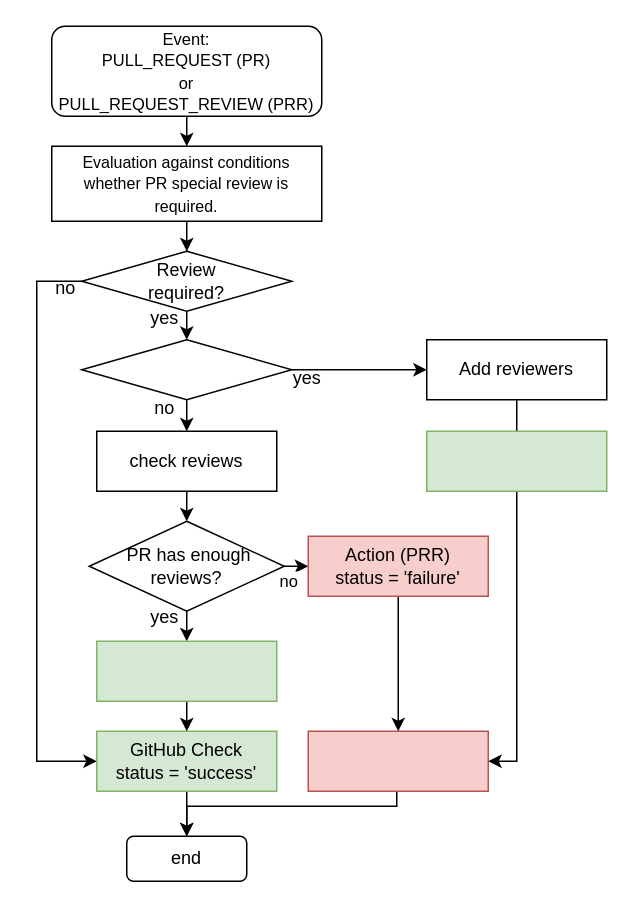
The diagram is 633 pixels wide and 908 high, and some of its shapes have lost their labels. Here are the shapes that lost their labels. From the top down, the box of each, then its label:
(80, 338, 292, 400): event = 'PR'
(425, 430, 607, 491): Action (PR) status = 'success'
(95, 640, 277, 701): Action (PRR) status = 'success'
(307, 730, 488, 791): GitHub Check status = 'failure'
